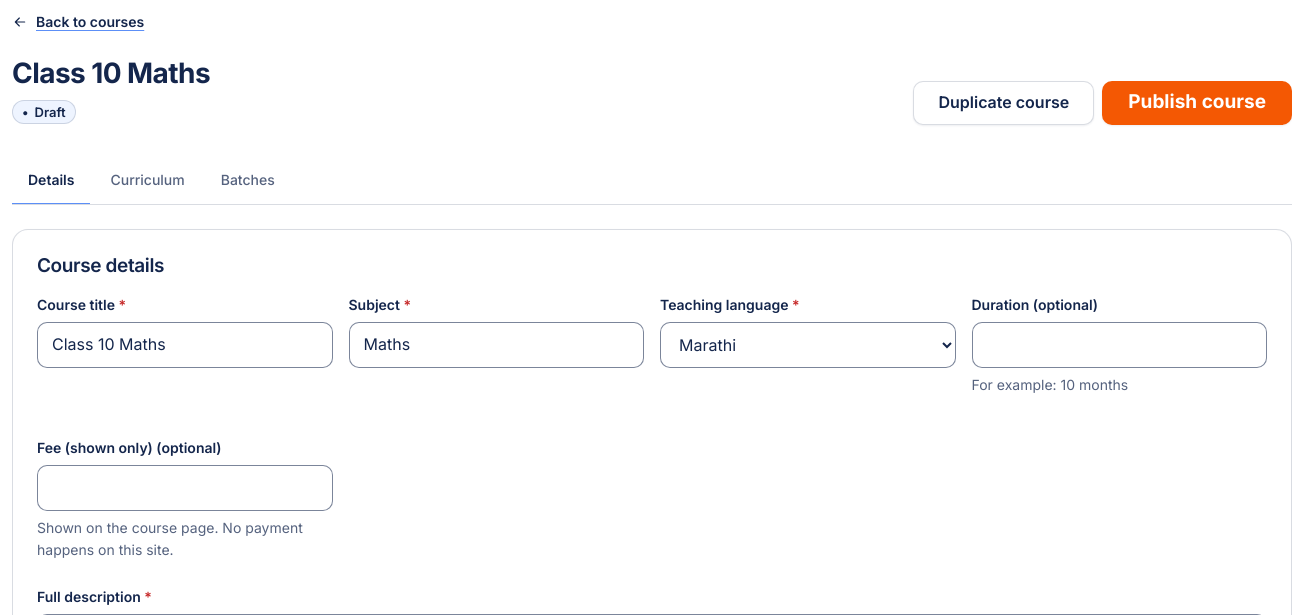
it: Publish shows what is missing
The width and height of the screenshot is (1304, 615).
Click the button "Publish course": (1197, 103) [1102,81,1292,125]
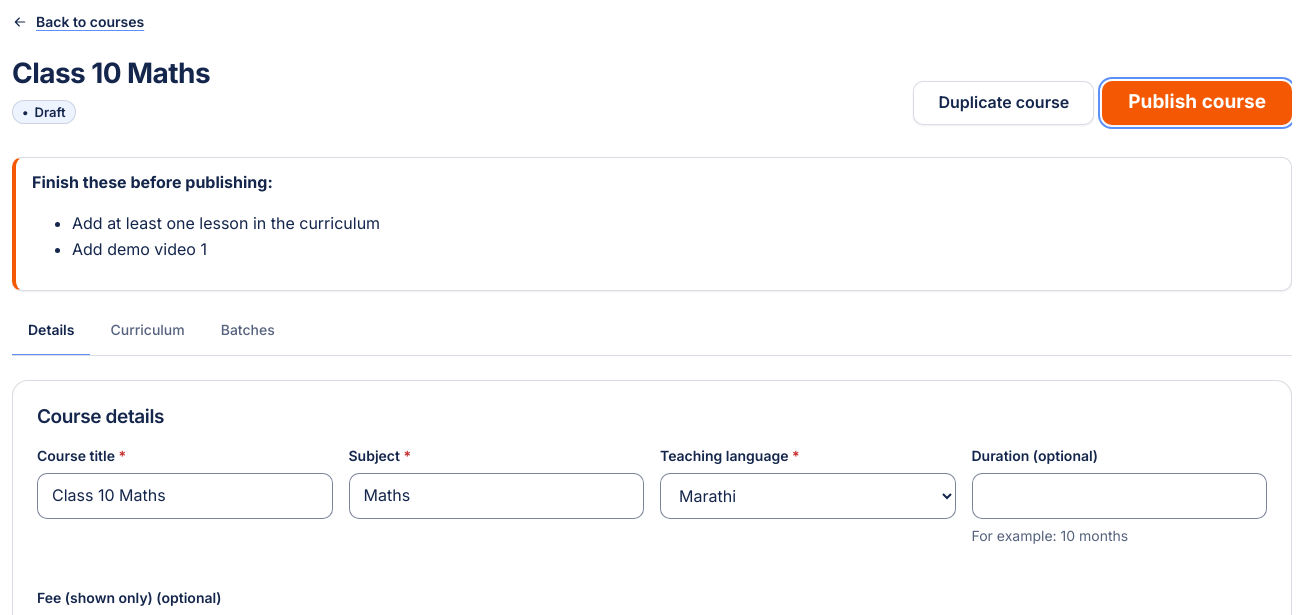
Expected: the list item "Add at least one lesson in the curriculum" is shown, [72,211,380,237]
Expected: the list item "Add demo video 1" is shown, [72,239,207,259]
